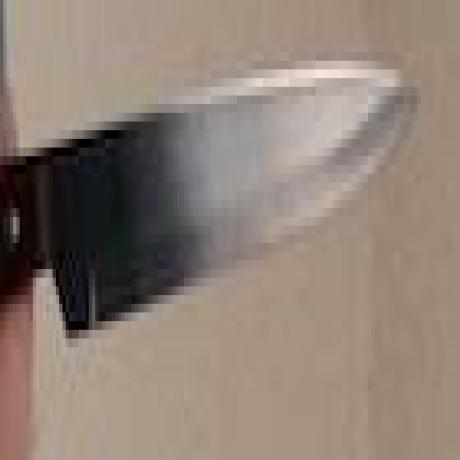weapon: (2, 56, 422, 354)
